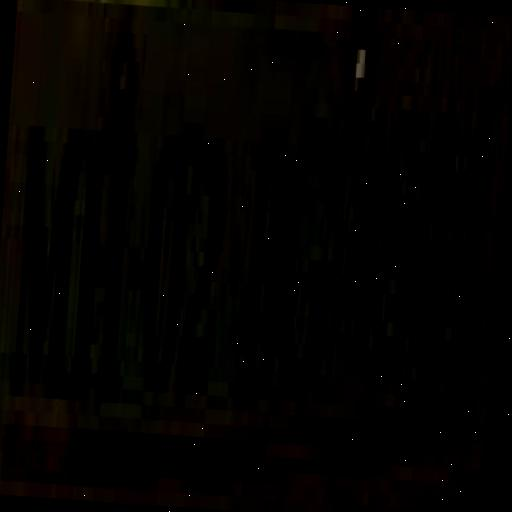number plate: (2, 11, 512, 472)
